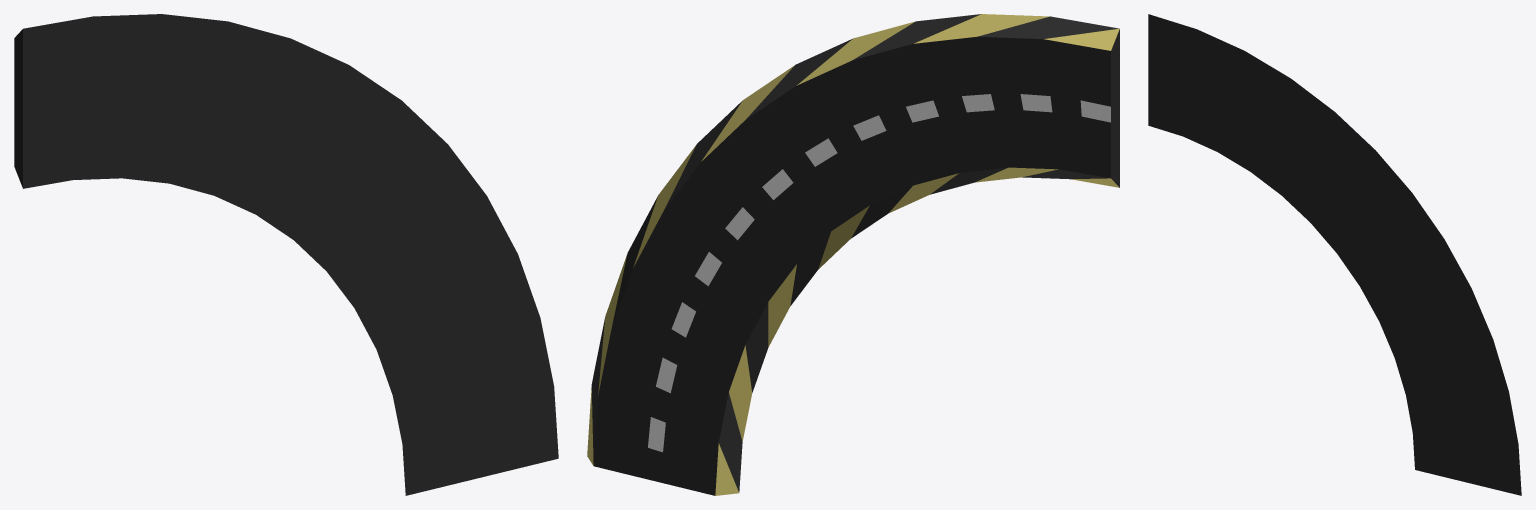
Rendered from forklift_path_right.fbx.
3 views of the same model, side by side, from view 1: azimuth 30°, elevation 25°; view 2: azimuth 150°, elevation 25°; view 3: azimuth 330°, elevation 25° (orthographic). The views are drawn at different scales.
Parts seen in each view (by area): view 1: Circle.001; view 2: Circle.001; view 3: Circle.001.
Part boxes in pixels (x1,y1,x2,y2): Circle.001: (14,14,558,495); Circle.001: (587,14,1119,495); Circle.001: (1148,14,1521,495).
Bounding box in the file's own units: 350 × 350 × 10.
